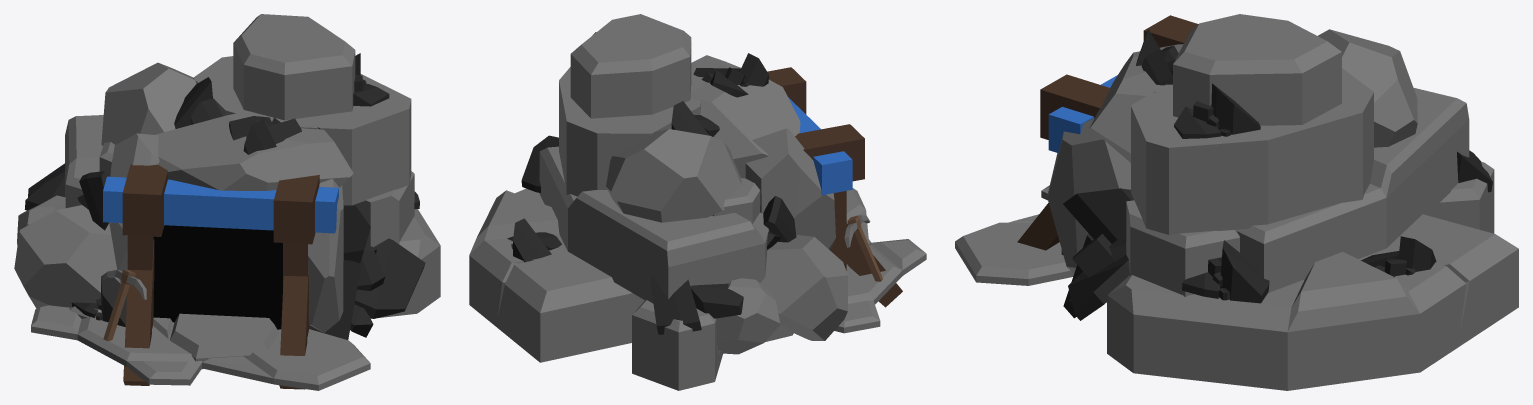
The model's file is Mine LvL 1.fbx.
The picture shows the model from 3 angles, left to right: view 1: azimuth 30°, elevation 25°; view 2: azimuth 150°, elevation 25°; view 3: azimuth 270°, elevation 25°; orthographic projection. The views are drawn at different scales.
Visible parts, largest first — view 1: Mine, Team Color Object; view 2: Mine, Team Color Object; view 3: Mine, Team Color Object.
Part boxes in pixels (x1=…): Mine: x1=14, y1=14, x2=440, y2=390; Team Color Object: x1=103, y1=176, x2=338, y2=233; Mine: x1=469, y1=14, x2=926, y2=390; Team Color Object: x1=788, y1=97, x2=852, y2=195; Mine: x1=955, y1=14, x2=1518, y2=390; Team Color Object: x1=1048, y1=75, x2=1117, y2=153.
Size of the model in its own units: 145 by 92.95 by 160.
